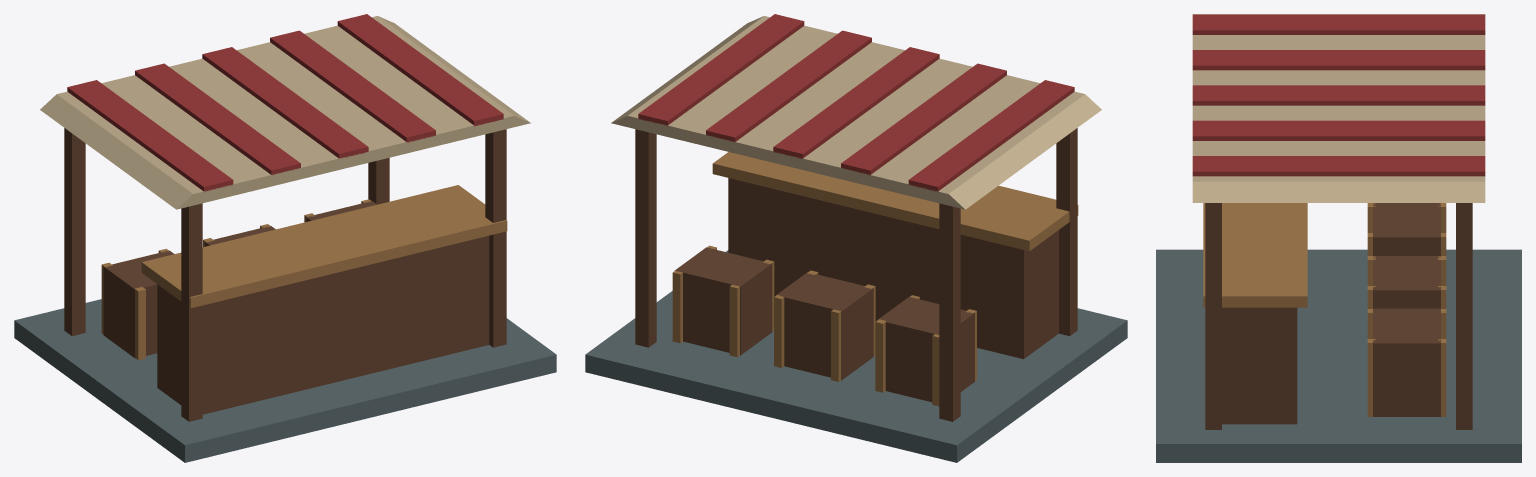
File: PirateCove_MarketStall_Standard.glb
3 renders of one model, left to right at view 1: azimuth 30°, elevation 25°; view 2: azimuth 150°, elevation 25°; view 3: azimuth 270°, elevation 25°, orthographic. The views are drawn at different scales.
Parts seen in each view (by area): view 1: PirateCove_MarketStall_Standard; view 2: PirateCove_MarketStall_Standard; view 3: PirateCove_MarketStall_Standard.
Part boxes in pixels (<box>): PirateCove_MarketStall_Standard: <box>14,14,556,462</box>; PirateCove_MarketStall_Standard: <box>585,14,1127,462</box>; PirateCove_MarketStall_Standard: <box>1156,14,1521,462</box>.
Bounding box in the file's own units: 4.4 × 2.88 × 3.5.
